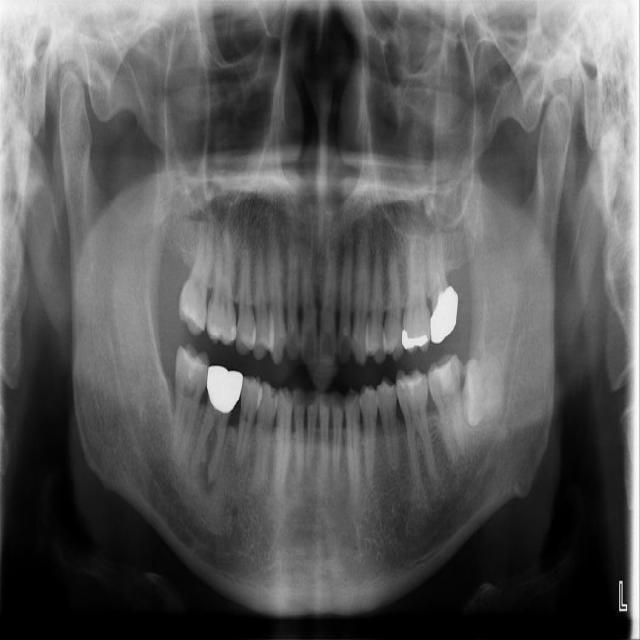52: (196, 363, 247, 419), (428, 283, 460, 345), (426, 354, 462, 405), (395, 368, 430, 418), (401, 307, 433, 354)
73: (603, 542, 610, 562)
BioHorizons Implant: (424, 220, 461, 345)
Biomet 3i Implant: (460, 353, 505, 427)
Blue Sky Bio Implant: (424, 353, 469, 459)
Caries: (174, 211, 219, 336)
Implant: (171, 343, 211, 459)
